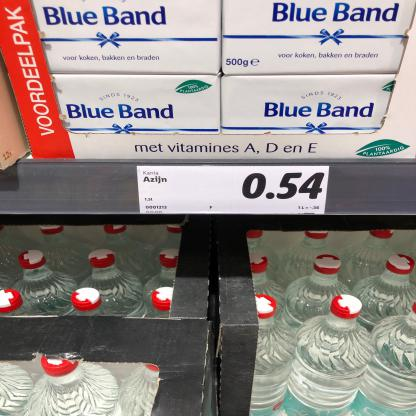prtg: (137, 167, 331, 215)
